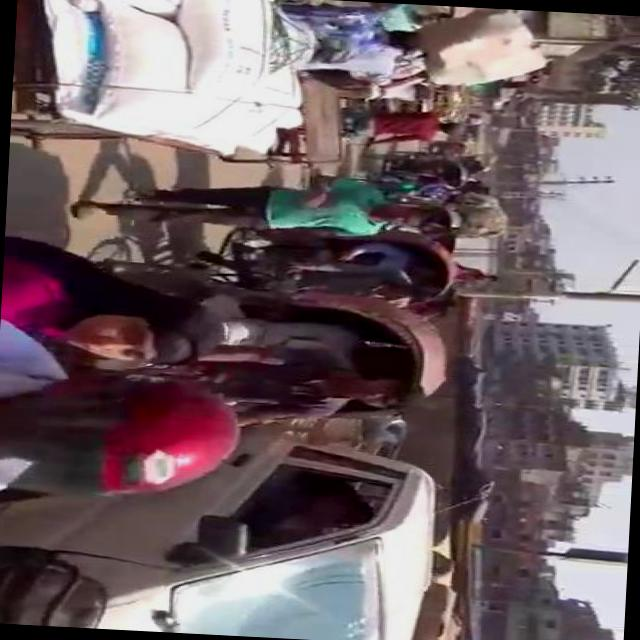motorcycle: (110, 264, 452, 438), (220, 70, 474, 180), (185, 221, 466, 310), (342, 173, 472, 210), (366, 149, 476, 187)
truck: (0, 415, 461, 640)
